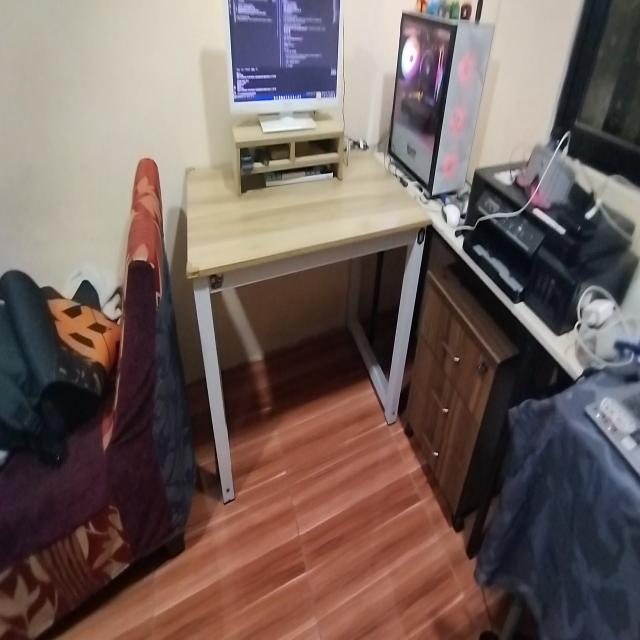table: (179, 153, 433, 479)
